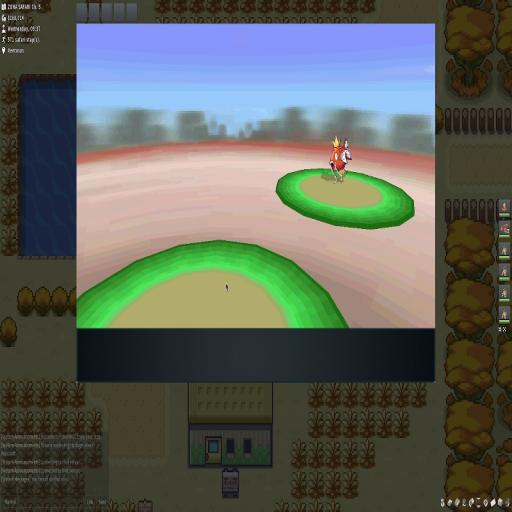MAGIKARP: (329, 136, 352, 184)
